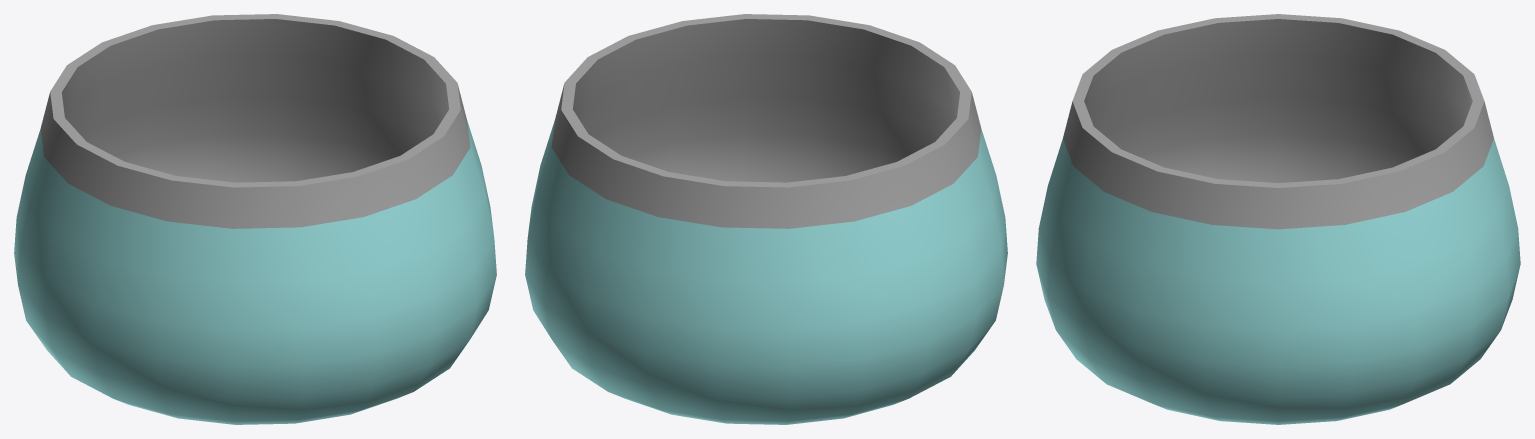
The model's file is potTest.fbx.
3 renders of one model, left to right at view 1: azimuth 30°, elevation 25°; view 2: azimuth 150°, elevation 25°; view 3: azimuth 270°, elevation 25°, orthographic.
Visible parts, largest first — view 1: pCylinder1; view 2: pCylinder1; view 3: pCylinder1.
Boxes of the visible parts, x1,y1,x2,y2 form: pCylinder1: (14,14,496,424); pCylinder1: (525,14,1007,424); pCylinder1: (1036,14,1520,424).
Size of the model in its own units: 92.5 by 53.33 by 92.5.
